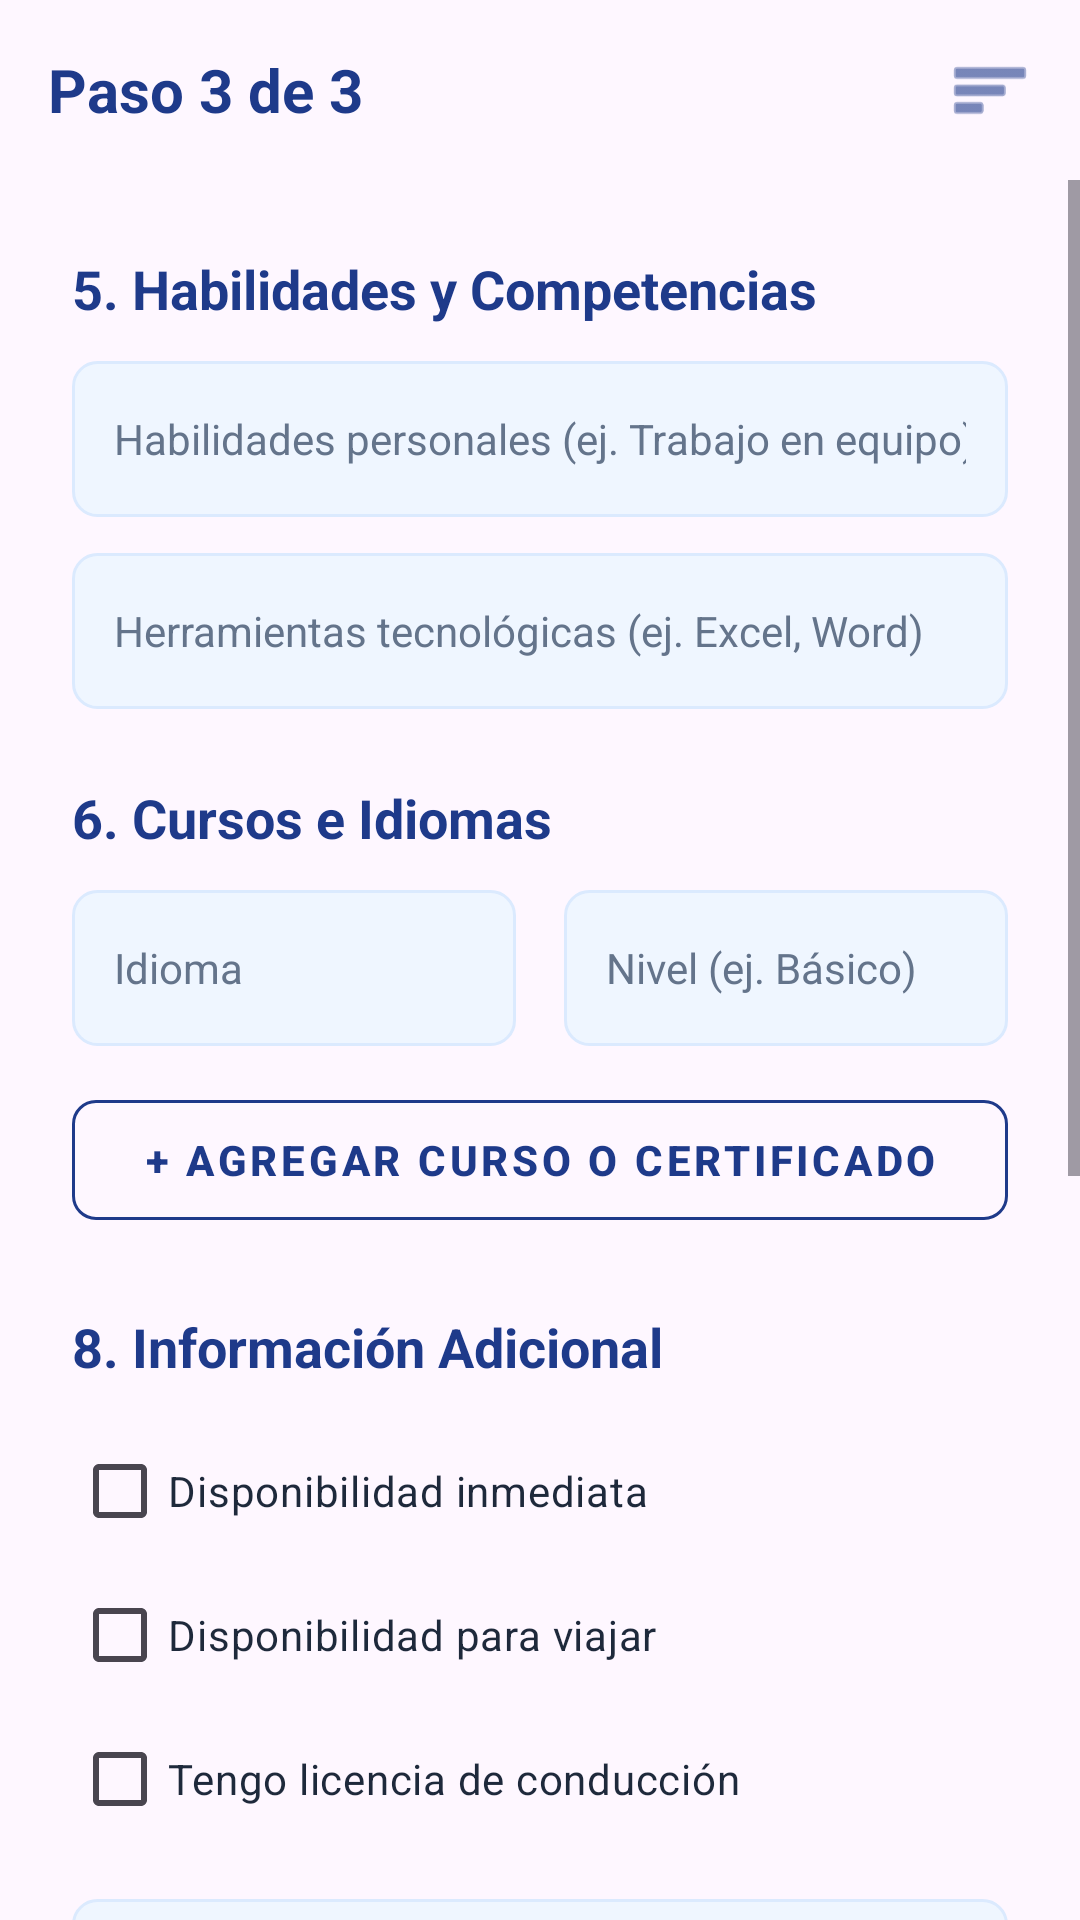

Where icons sit on this 1080 × 1920 app screen, as box(x1, y1, x2, y2):
Menú: box(954, 67, 1026, 114)
